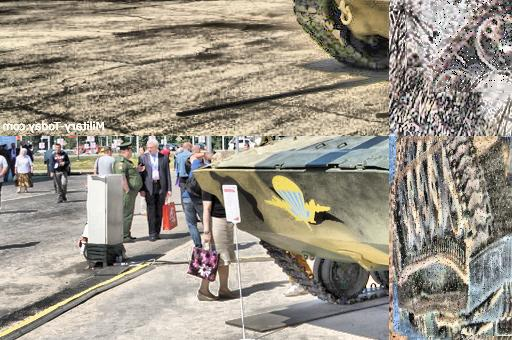tanks: (201, 137, 390, 306), (394, 137, 511, 339), (435, 1, 512, 90), (296, 1, 390, 69)
